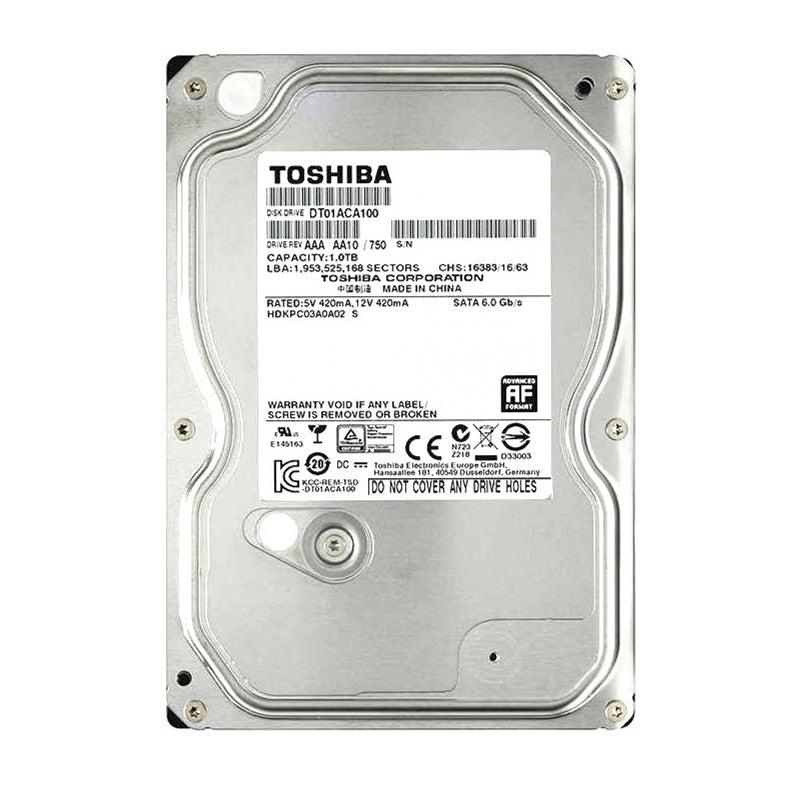internal HDD: (159, 52, 648, 736)
